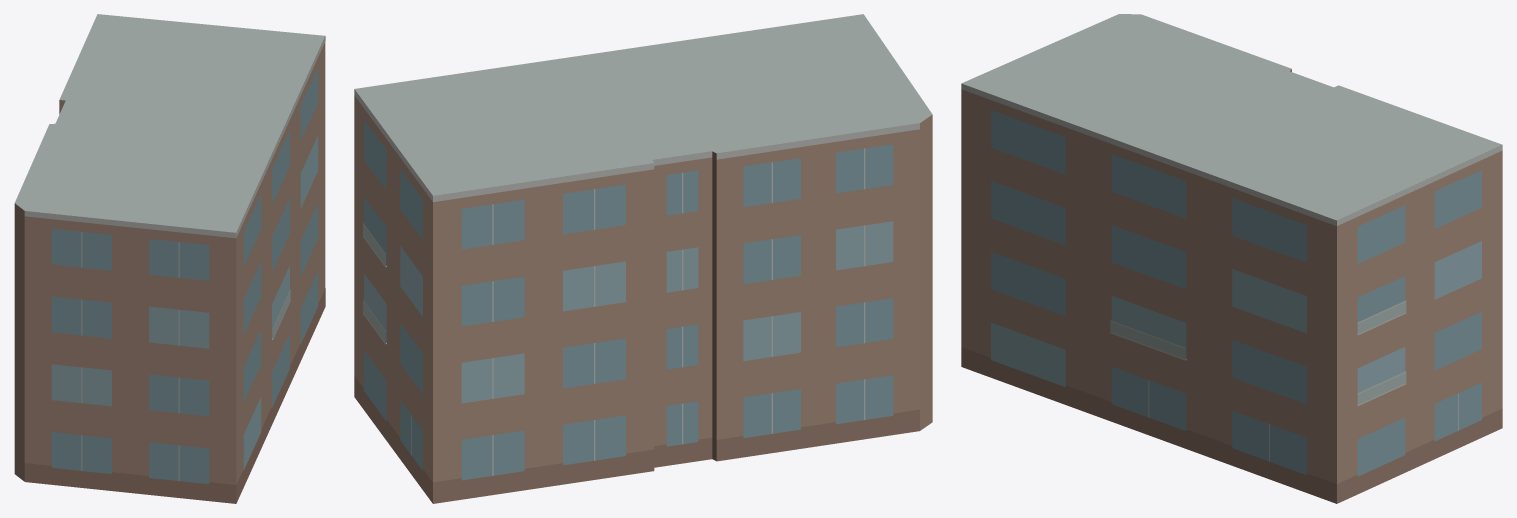
The model's file is survey-upis-32950261.glb.
3 views of the same model, side by side, from view 1: azimuth 30°, elevation 25°; view 2: azimuth 150°, elevation 25°; view 3: azimuth 270°, elevation 25° (orthographic). The views are drawn at different scales.
Visible parts, largest first — view 1: survey-upis-32950261.tmp; view 2: survey-upis-32950261.tmp; view 3: survey-upis-32950261.tmp.
Part boxes in pixels (box(x1,y1,x2,y2)): survey-upis-32950261.tmp: box(14, 14, 325, 503); survey-upis-32950261.tmp: box(354, 14, 932, 503); survey-upis-32950261.tmp: box(961, 14, 1502, 503).
Bounding box in the file's own units: 19 × 12.15 × 21.04.
